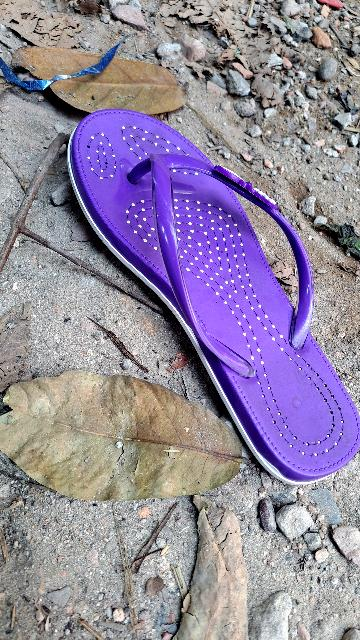sandal: (41, 58, 360, 517)
